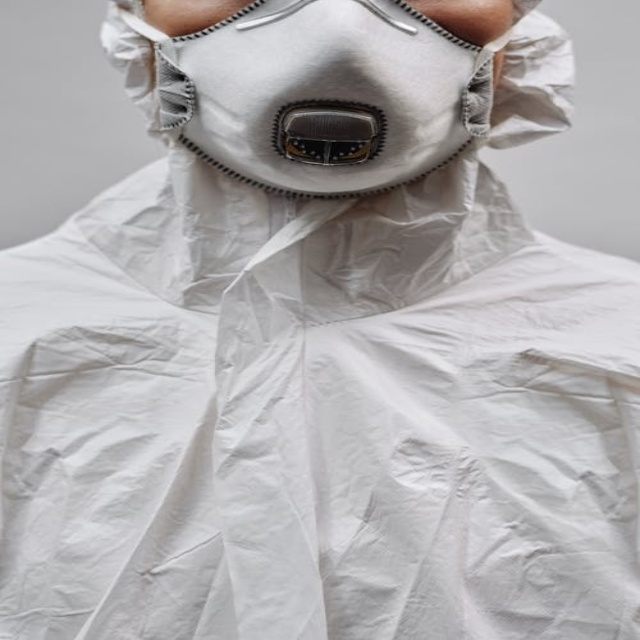Mascara: (150, 1, 500, 202)
